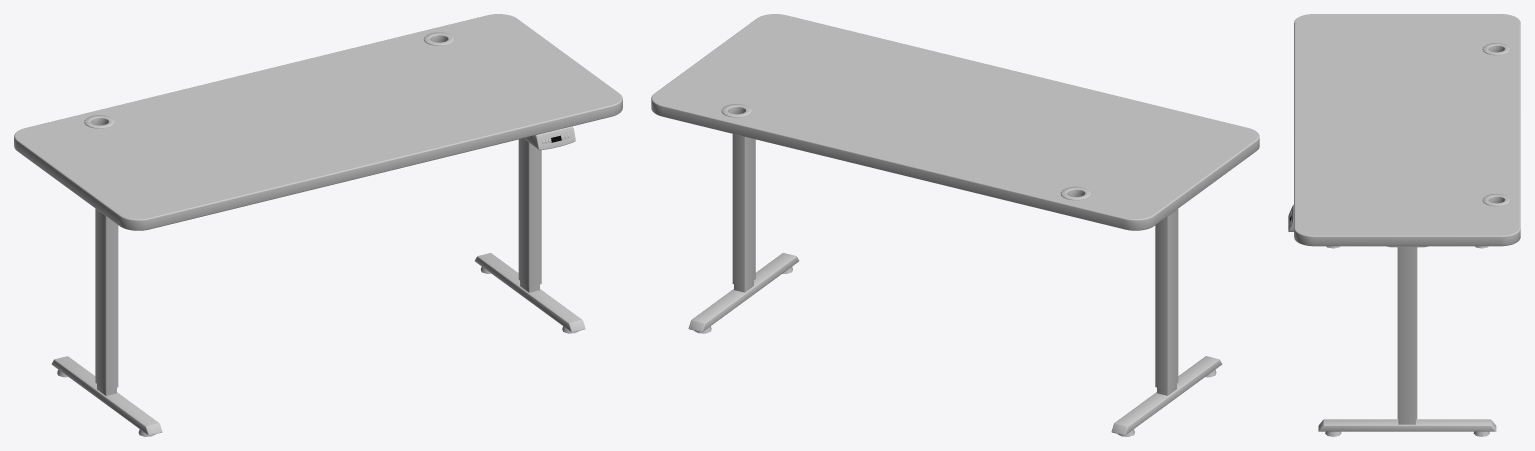
Rendered from table.gltf.
3 renders of one model, left to right at view 1: azimuth 30°, elevation 25°; view 2: azimuth 150°, elevation 25°; view 3: azimuth 270°, elevation 25°, orthographic. The views are drawn at different scales.
Parts seen in each view (by area): view 1: Desk_low, upper_frame_low, feet_low; view 2: Desk_low, upper_frame_low, feet_low; view 3: Desk_low, upper_frame_low, feet_low.
Boxes of the visible parts, box(x1,y1,x2,y2) form: Desk_low: box(14, 14, 622, 230); upper_frame_low: box(95, 126, 575, 390); feet_low: box(51, 253, 585, 436); Desk_low: box(651, 14, 1259, 230); upper_frame_low: box(732, 134, 1178, 389); feet_low: box(688, 253, 1222, 436); Desk_low: box(1294, 14, 1520, 246); upper_frame_low: box(1288, 204, 1428, 419); feet_low: box(1318, 246, 1496, 436).
Bounding box in the file's own units: 2.36 × 1.06 × 1.04.
